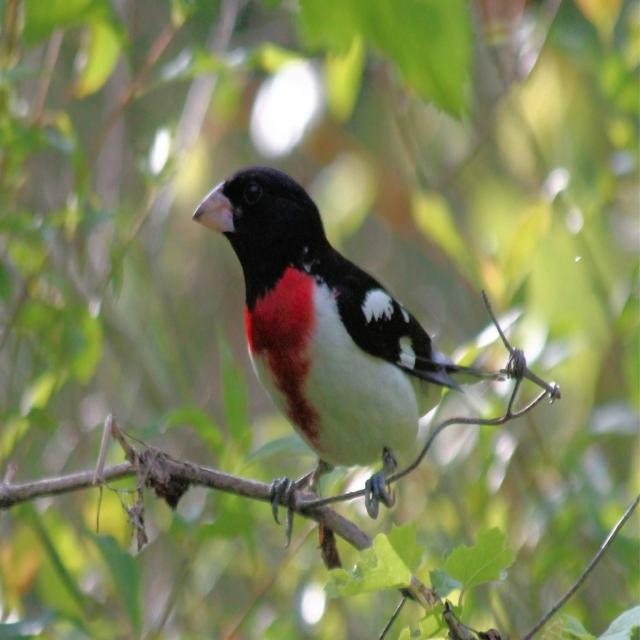bird: (184, 167, 493, 516)
